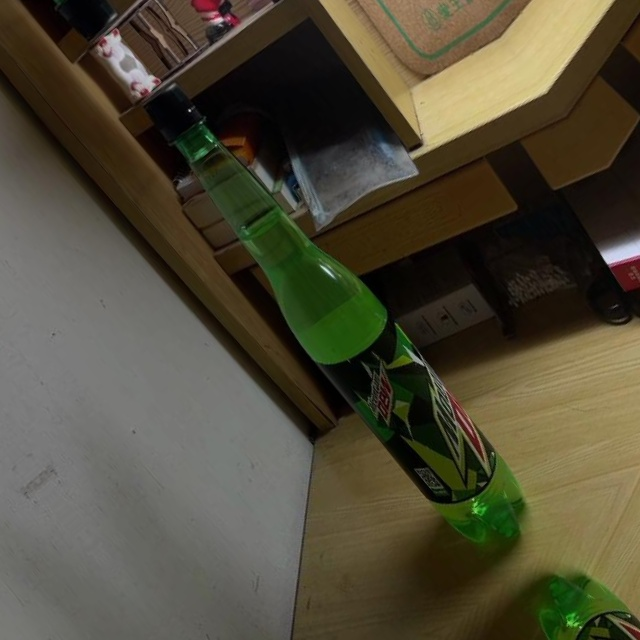Mountain-Dew: (117, 70, 551, 565)
